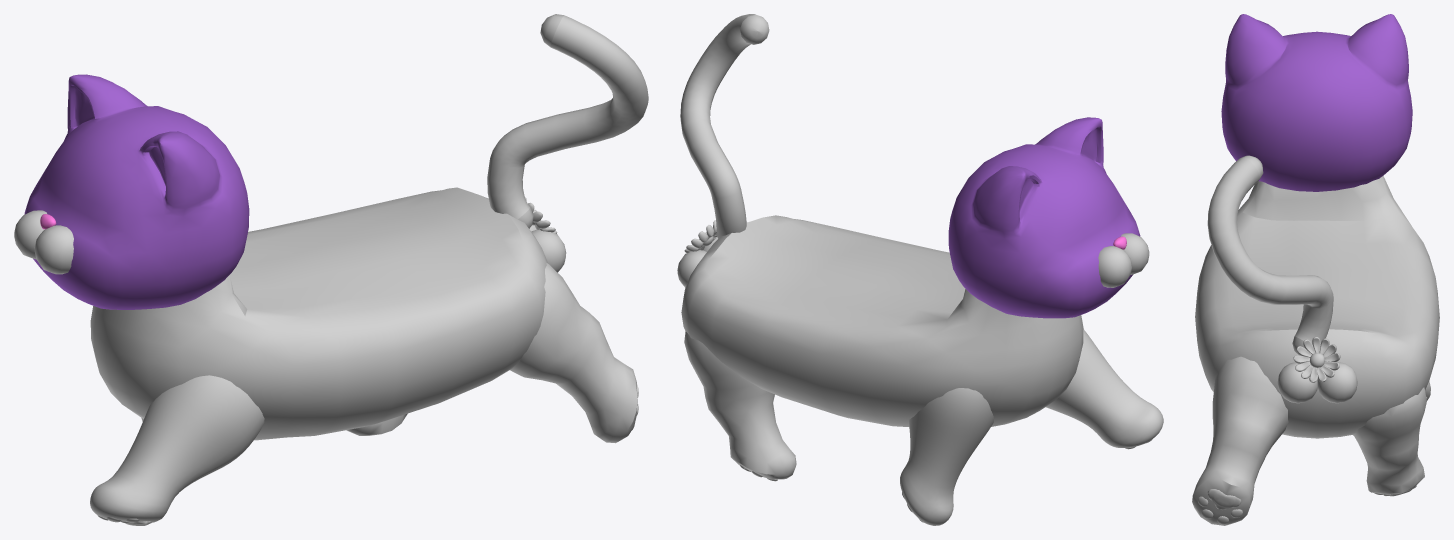
File: CAT BUS.fbx
3 renders of one model, left to right at view 1: azimuth 30°, elevation 25°; view 2: azimuth 150°, elevation 25°; view 3: azimuth 270°, elevation 25°, orthographic. The views are drawn at different scales.
Parts seen in each view (by area): view 1: body, head, LEG, TAIL, mouth, BALL; view 2: body, head, LEG, TAIL, mouth, BALL; view 3: body, head, LEG, TAIL, BALL, FLOWER, paw.
Boxes of the visible parts, x1,y1,x2,y2 form: body: [90, 187, 548, 440]; head: [24, 74, 249, 309]; LEG: [90, 263, 637, 522]; TAIL: [487, 14, 648, 228]; mouth: [14, 210, 73, 274]; BALL: [529, 225, 566, 272]; body: [681, 215, 1083, 426]; head: [948, 117, 1140, 318]; LEG: [684, 329, 1163, 525]; TAIL: [680, 14, 769, 238]; mouth: [1098, 233, 1149, 287]; BALL: [677, 237, 717, 287]; body: [1195, 175, 1439, 438]; head: [1221, 14, 1412, 191]; LEG: [1192, 356, 1430, 525]; TAIL: [1207, 155, 1333, 355]; BALL: [1277, 362, 1357, 403]; FLOWER: [1293, 336, 1340, 382]; paw: [1198, 397, 1427, 524].
Size of the model in its own units: 520 by 394 by 233.
